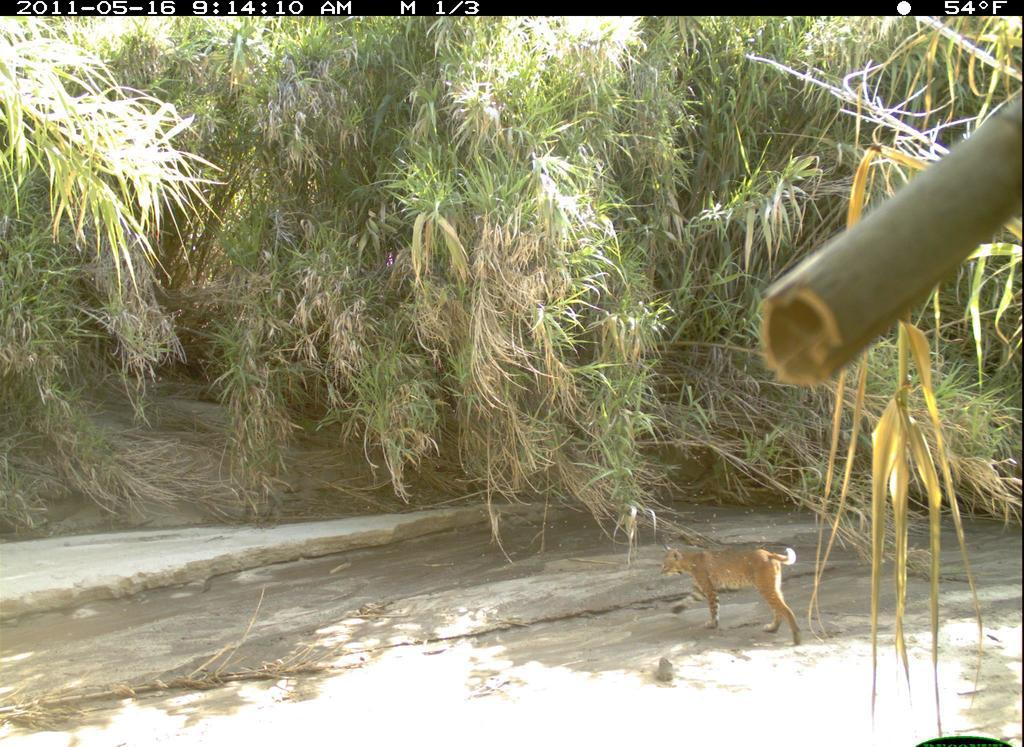bobcat: (656, 538, 817, 649)
